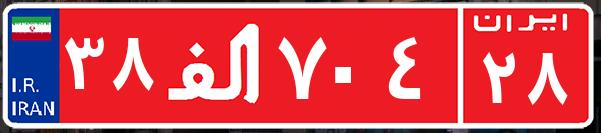0: (330, 28, 385, 110)
2: (475, 38, 525, 113)
3: (57, 26, 110, 107)
4: (385, 28, 445, 110)
7: (273, 28, 330, 110)
8: (110, 28, 158, 105), (525, 38, 570, 115)
الف: (158, 15, 273, 115)
